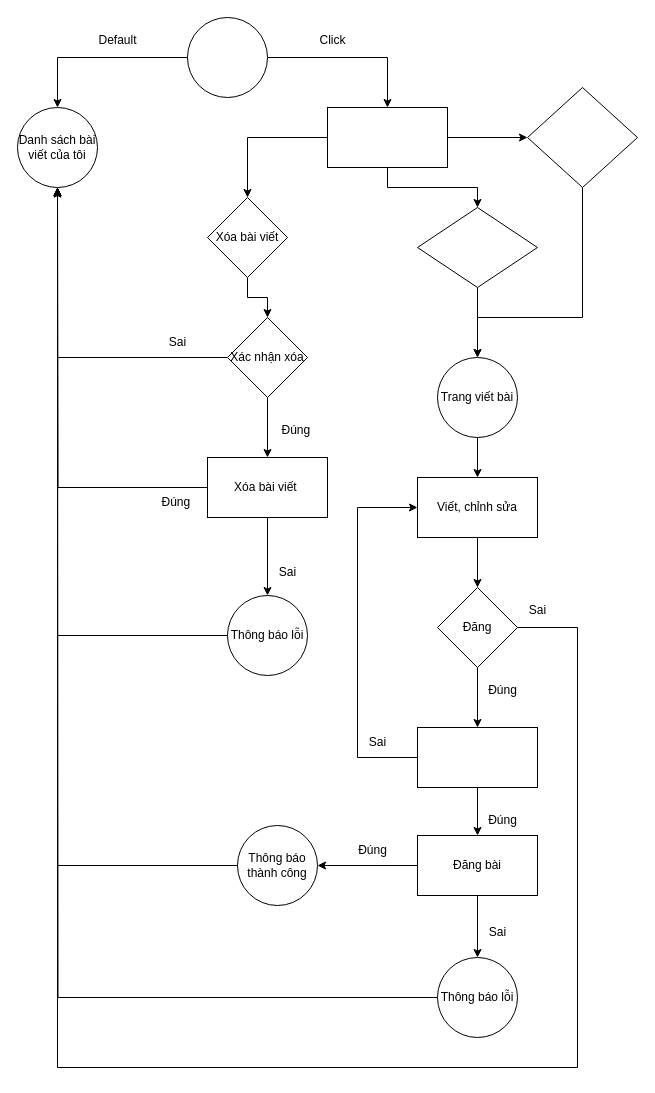
The diagram is 655 pixels wide and 1093 high, and some of its shapes have lost their labels. Each missing label, with the centre of its shape:
"Chỉnh sửa bài viết" goes at (x=582, y=137).
"Kiểm tra tính hợp lệ" goes at (x=477, y=757).
"Thêm bài viết" goes at (x=477, y=247).
"Thêm bài viết, xóa bài viết, chỉnh sửa bài viết" goes at (x=387, y=137).
"Trang viết blog" goes at (x=227, y=57).
